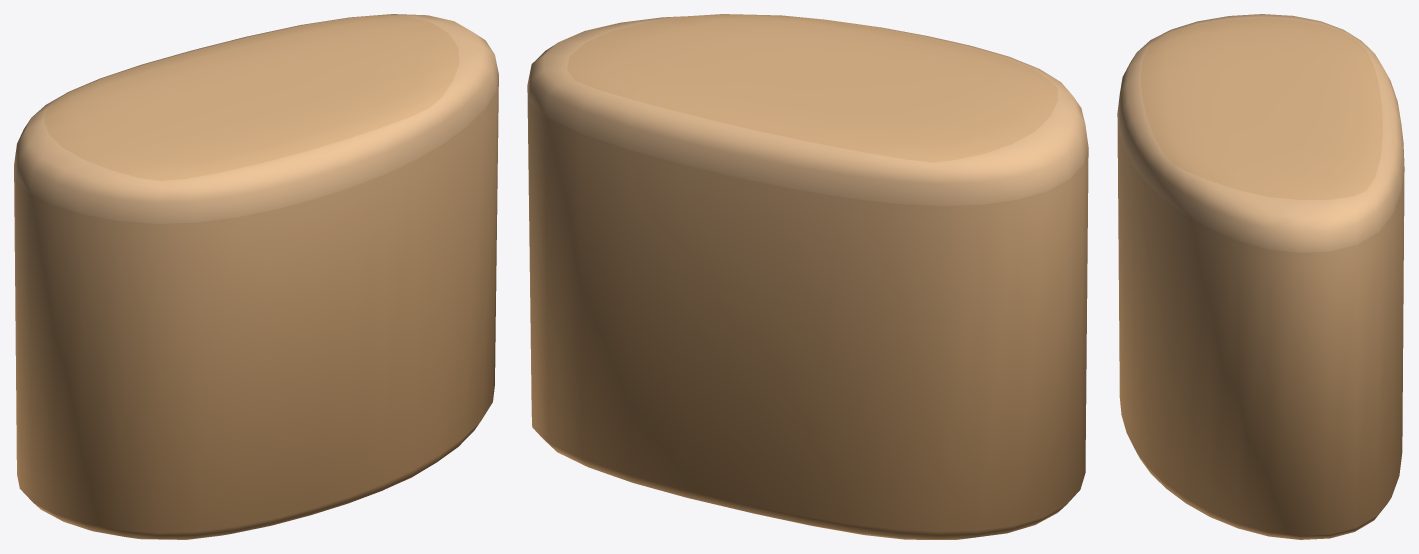
File: big_stone_3_sand.fbx
3 renders of one model, left to right at view 1: azimuth 30°, elevation 25°; view 2: azimuth 150°, elevation 25°; view 3: azimuth 270°, elevation 25°, orthographic. The views are drawn at different scales.
Visible parts, largest first — view 1: big_stone_3_sand; view 2: big_stone_3_sand; view 3: big_stone_3_sand.
Part boxes in pixels (<box>): big_stone_3_sand: <box>14,14,498,539</box>; big_stone_3_sand: <box>527,14,1088,539</box>; big_stone_3_sand: <box>1117,14,1404,539</box>.
Bounding box in the file's own units: 269 × 200 × 151.
